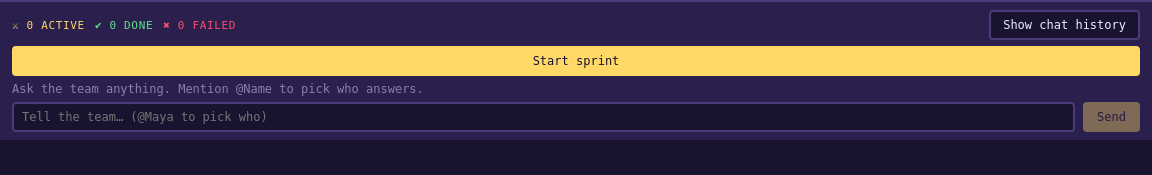
Test: Hud › routes an ask to the matching figure, starts its run, and shows the reply when the run ends
The width and height of the screenshot is (1152, 175).
Type "write tests for the login bug" into the field named "Chat" at (544, 117), box left=12, top=102, right=1075, bottom=132
Then press Enter
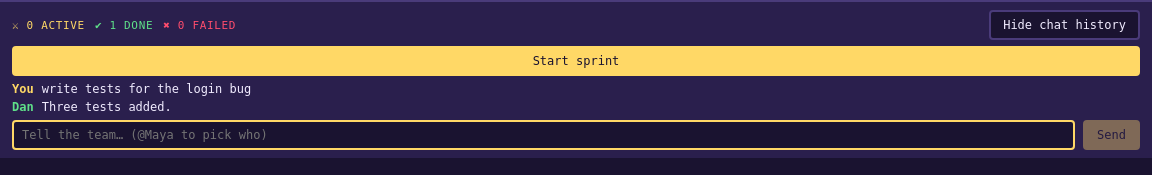
Expected: the text "write tests for the login bug" is shown, left=42, top=82, right=251, bottom=96
Expected: the button "Hide chat history" is expanded, left=989, top=10, right=1140, bottom=40
Expected: the text "Three tests added." is shown, left=42, top=100, right=172, bottom=114
